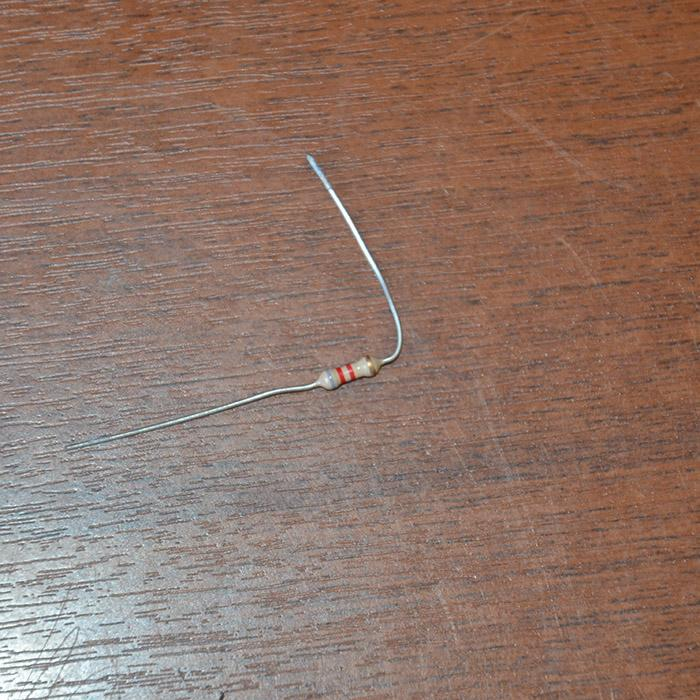resistor: (317, 354, 383, 391)
